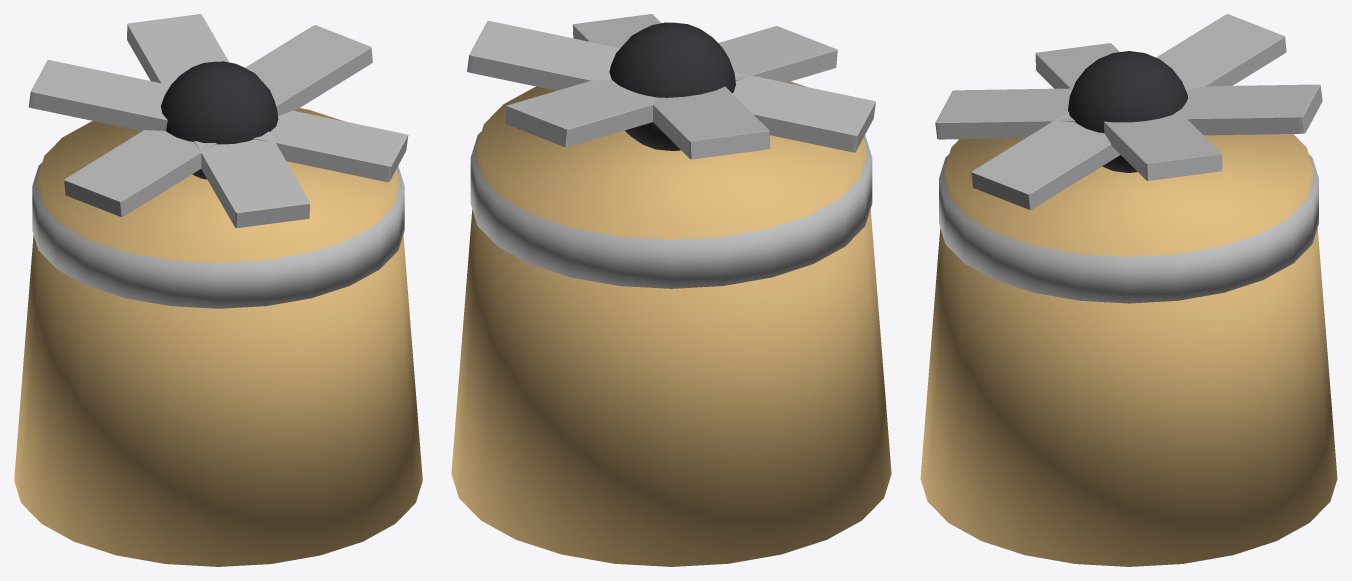
Rendered from turbine.glb.
3 views of the same model, side by side, from view 1: azimuth 30°, elevation 25°; view 2: azimuth 150°, elevation 25°; view 3: azimuth 270°, elevation 25° (orthographic). The views are drawn at different scales.
Visible parts, largest first — view 1: machines/turbine; view 2: machines/turbine; view 3: machines/turbine.
Part boxes in pixels (x1,y1,x2,y2): machines/turbine: (14, 14, 422, 566); machines/turbine: (451, 14, 891, 566); machines/turbine: (920, 14, 1337, 566).
Bounding box in the file's own units: 0.68 × 0.76 × 0.68.
